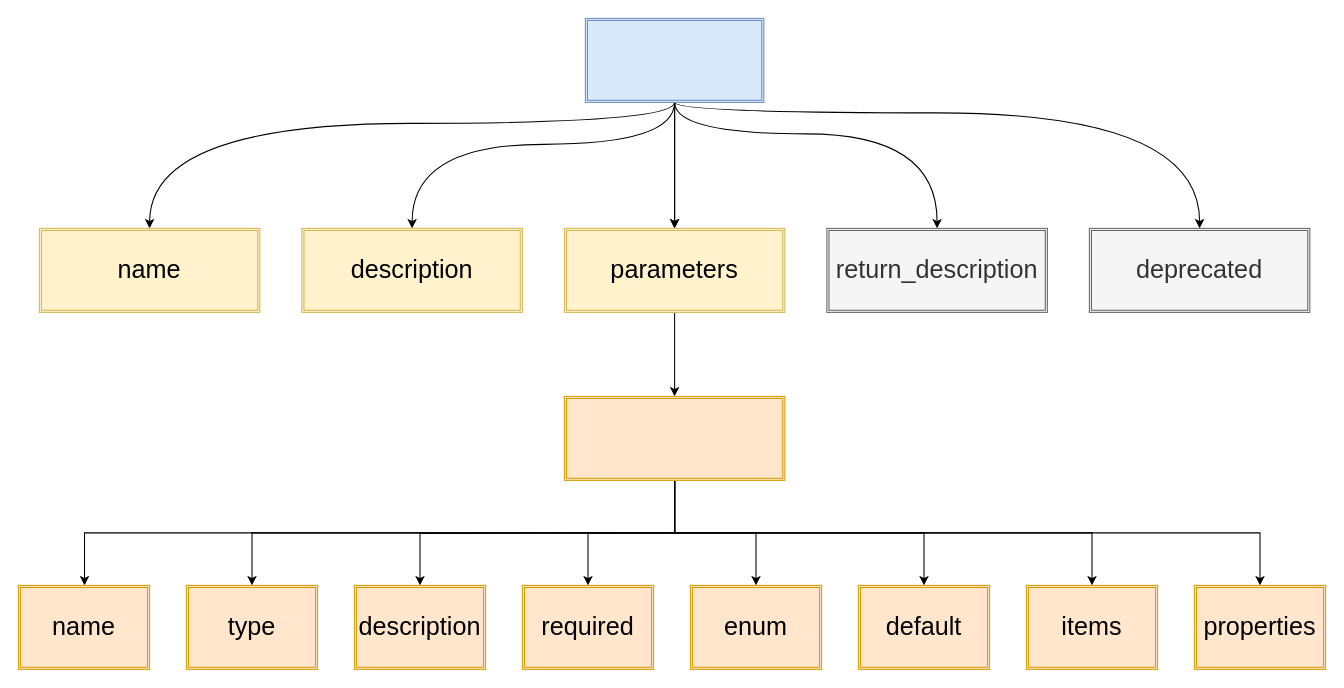
Image size: 1344x688. Some labels were removed from this diagram. The shapes that lost their labels are listed below. From the top down, each one's centre as x and y in pixels, then its label:
(674,59): Tool Definition
(674,437): parameter
